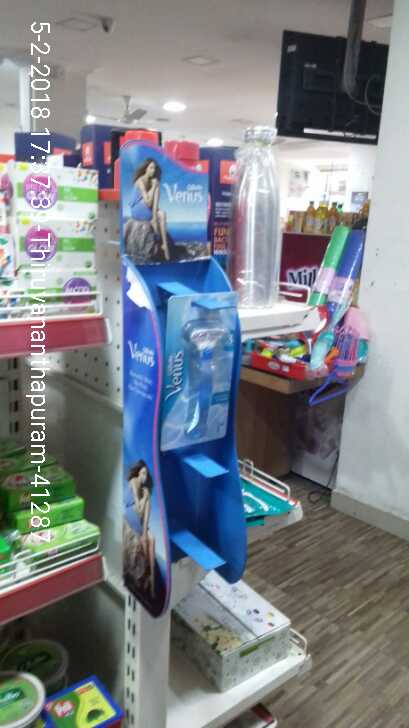venus: (163, 296, 233, 442)
